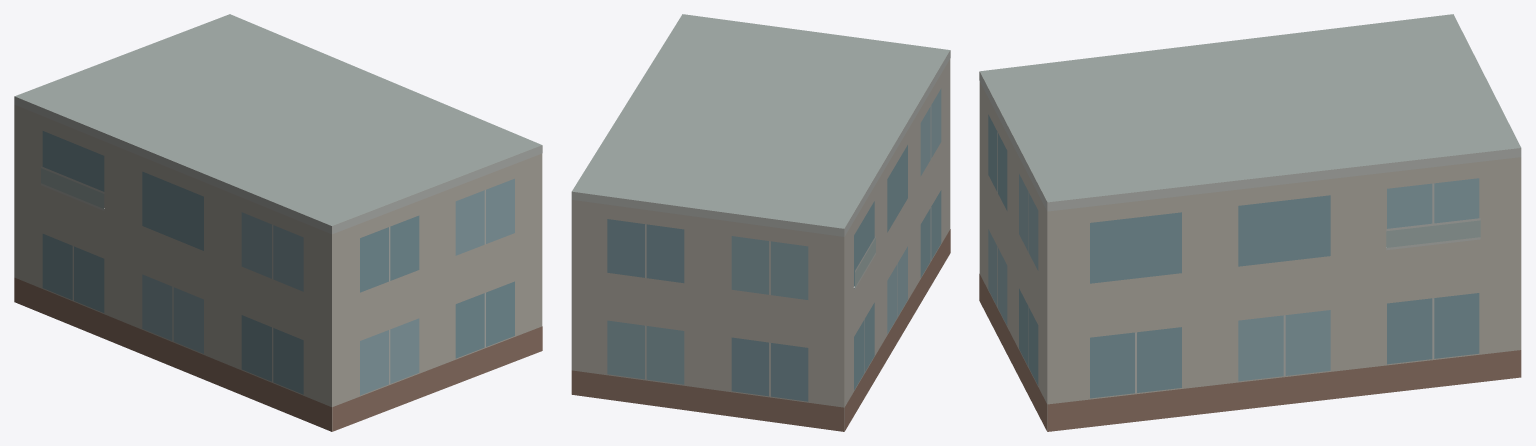
File: survey-upis-32967200.glb
3 views of the same model, side by side, from view 1: azimuth 30°, elevation 25°; view 2: azimuth 150°, elevation 25°; view 3: azimuth 270°, elevation 25° (orthographic). The views are drawn at different scales.
Parts seen in each view (by area): view 1: survey-upis-32967200.tmp; view 2: survey-upis-32967200.tmp; view 3: survey-upis-32967200.tmp.
Boxes of the visible parts, x1,y1,x2,y2 form: survey-upis-32967200.tmp: [14, 14, 542, 431]; survey-upis-32967200.tmp: [571, 14, 950, 431]; survey-upis-32967200.tmp: [979, 14, 1521, 431].
Size of the model in its own units: 10.75 by 6.1 by 13.07.
